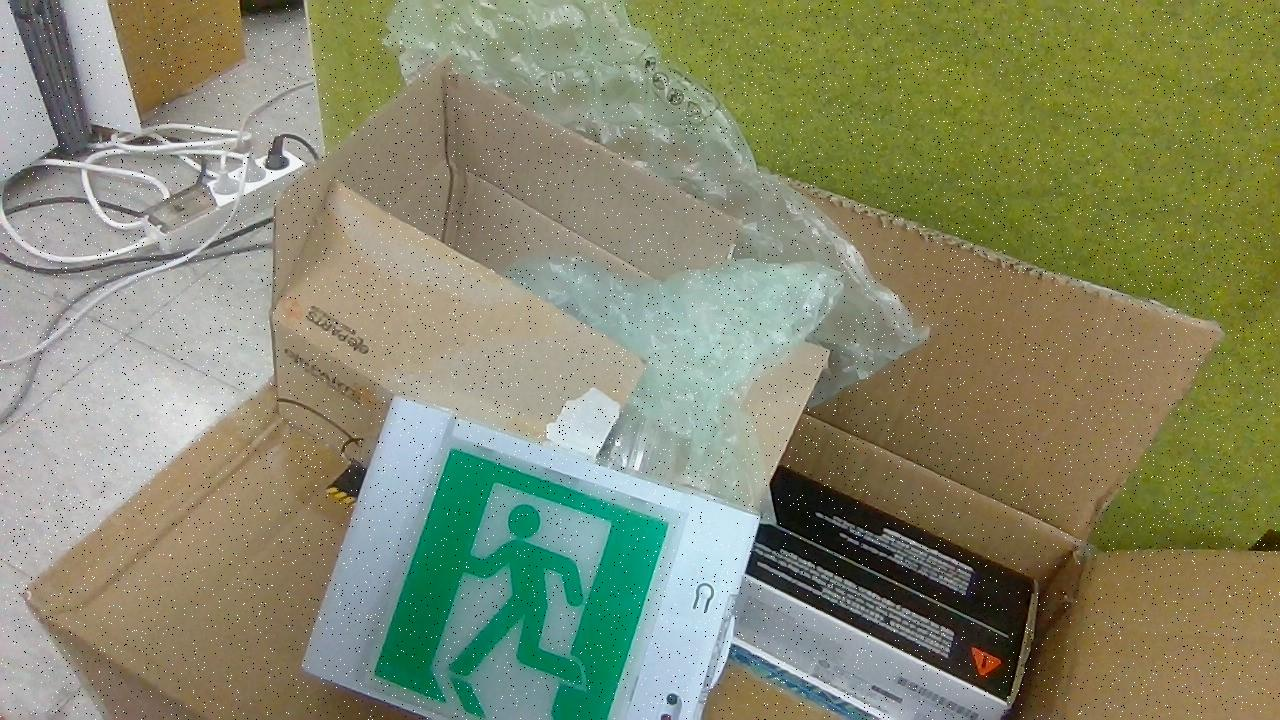emergency_exit: (300, 394, 761, 718)
